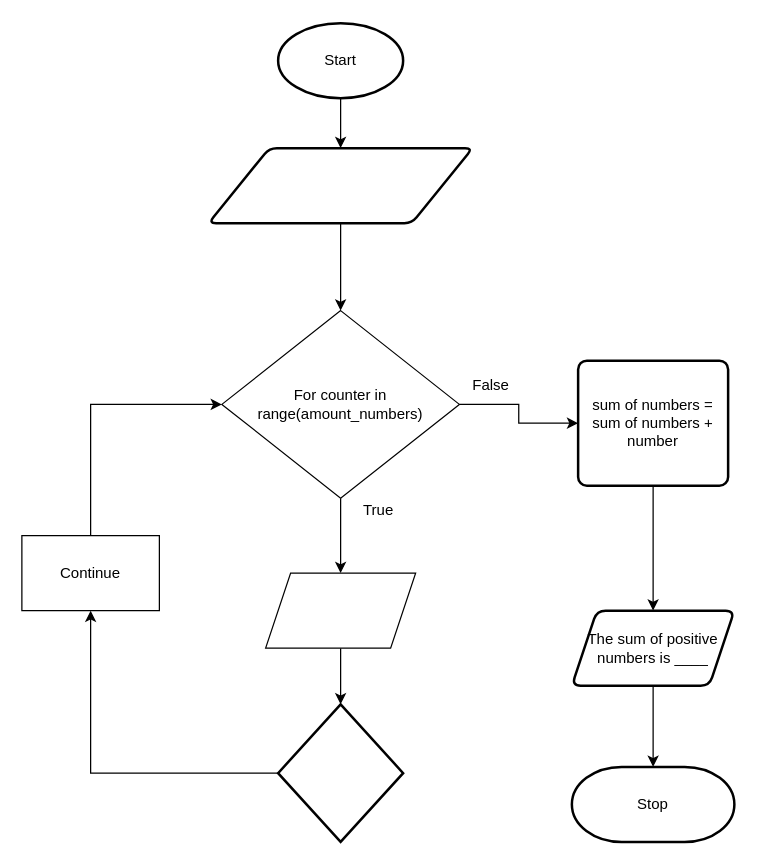
This 758x864 diagram has some shape labels left out. Here are the shapes that lost their labels. From the top down, the centre of each, then its label:
point 340,185: get amount_numbers
point 340,610: Get a Number
point 340,772: if number is not rgeater than 0
